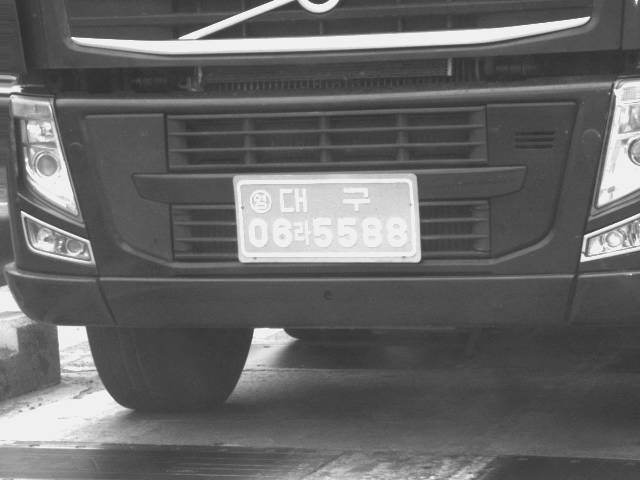car: (1, 1, 638, 410)
plate: (231, 172, 423, 264)
